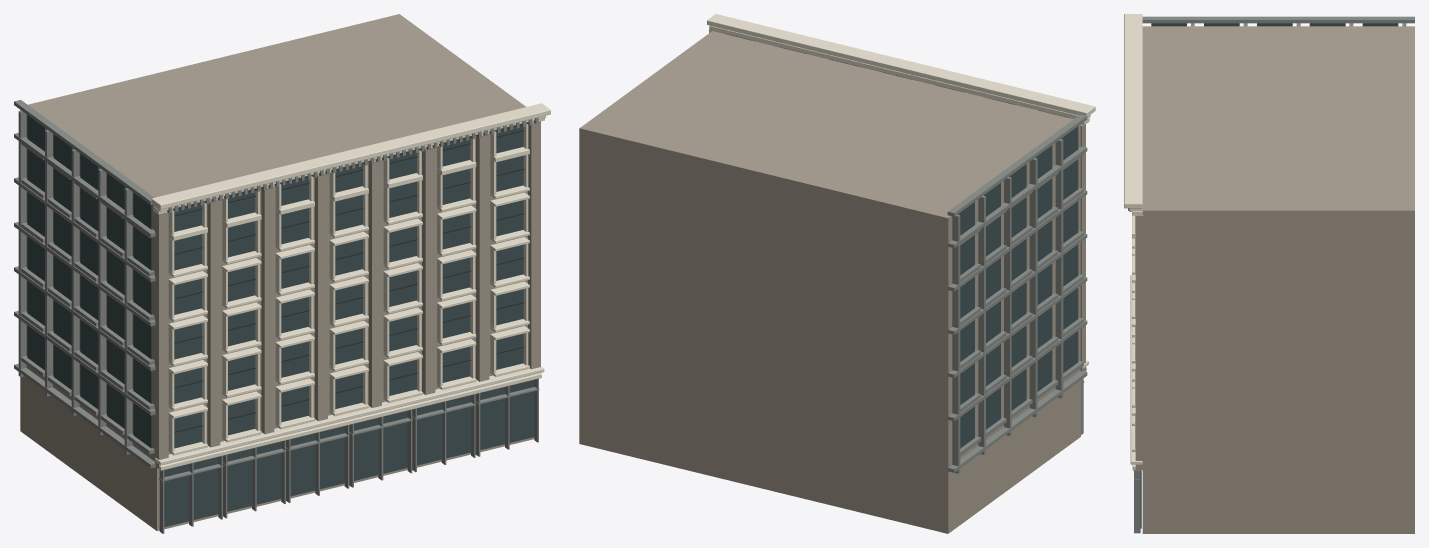
Rendered from page_brothers.glb.
3 renders of one model, left to right at view 1: azimuth 30°, elevation 25°; view 2: azimuth 150°, elevation 25°; view 3: azimuth 270°, elevation 25°, orthographic. The views are drawn at different scales.
Visible parts, largest first — view 1: Page warm grey brick, Recessed blue green glass, Raised cream ornament, Page painted cast iron, Black iron window frames; view 2: Page warm grey brick, Page painted cast iron, Recessed blue green glass, Raised cream ornament; view 3: Page warm grey brick, Raised cream ornament, Page painted cast iron, Recessed blue green glass.
Boxes of the visible parts, bbox=[...] form: Page warm grey brick: bbox=[20, 14, 540, 530]; Recessed blue green glass: bbox=[27, 115, 534, 527]; Raised cream ornament: bbox=[151, 103, 550, 470]; Page painted cast iron: bbox=[14, 100, 539, 533]; Black iron window frames: bbox=[174, 130, 524, 432]; Page warm grey brick: bbox=[579, 31, 1085, 533]; Page painted cast iron: bbox=[774, 46, 1087, 473]; Recessed blue green glass: bbox=[728, 34, 1078, 448]; Raised cream ornament: bbox=[707, 14, 1095, 371]; Page warm grey brick: bbox=[1135, 26, 1414, 533]; Raised cream ornament: bbox=[1124, 14, 1142, 470]; Page painted cast iron: bbox=[1128, 16, 1414, 533]; Recessed blue green glass: bbox=[1140, 23, 1398, 528].
Bounding box in the file's own units: 34.05 × 27.8 × 22.
